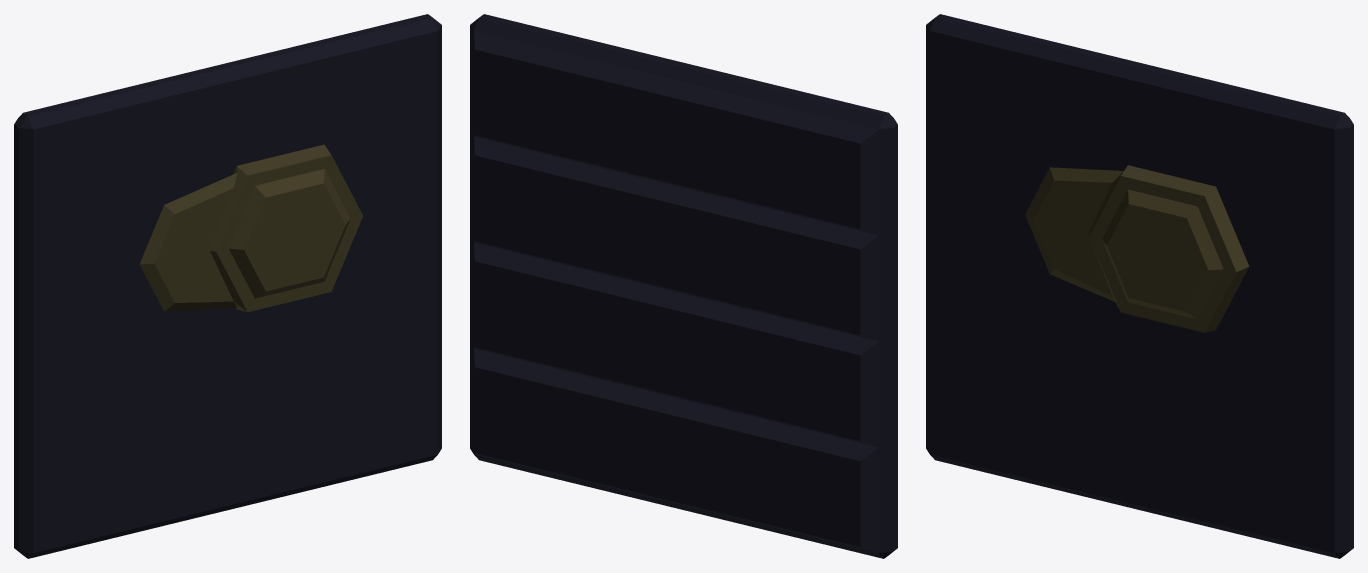
Rendered from SafeDoor.obj.
The picture shows the model from 3 angles, left to right: view 1: azimuth 30°, elevation 25°; view 2: azimuth 150°, elevation 25°; view 3: azimuth 330°, elevation 25°; orthographic projection.
Visible parts, largest first — view 1: SafeDoor_Cube.007_Mat4, SafeDoor_Cube.007_Mat3; view 2: SafeDoor_Cube.007_Mat4; view 3: SafeDoor_Cube.007_Mat4, SafeDoor_Cube.007_Mat3.
Part boxes in pixels (x1,y1,x2,y2): SafeDoor_Cube.007_Mat4: [14, 14, 441, 558]; SafeDoor_Cube.007_Mat3: [139, 144, 362, 312]; SafeDoor_Cube.007_Mat4: [470, 14, 897, 558]; SafeDoor_Cube.007_Mat4: [926, 14, 1353, 558]; SafeDoor_Cube.007_Mat3: [1025, 165, 1249, 332].
Bounding box in the file's own units: 1 × 1 × 0.1671.
